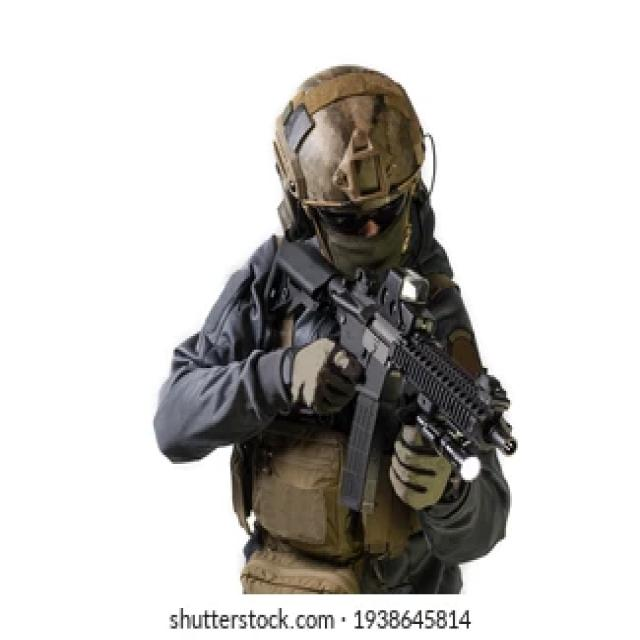soldier: (152, 53, 524, 598)
